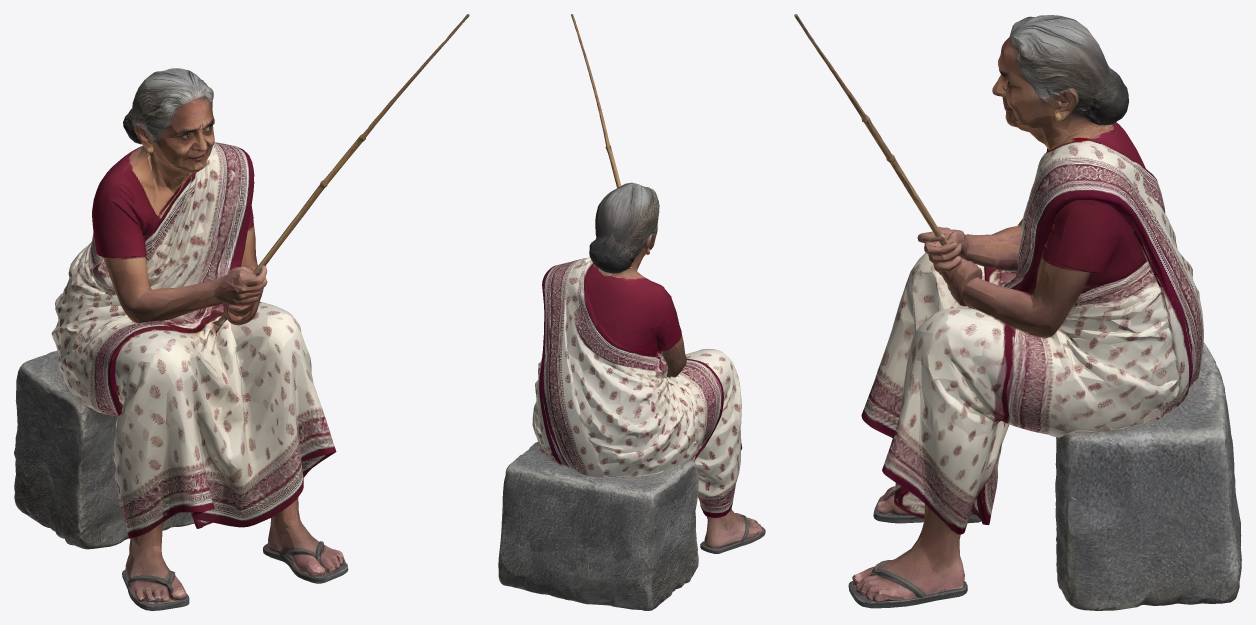
File: lady-s.glb
The picture shows the model from 3 angles, left to right: view 1: azimuth 30°, elevation 25°; view 2: azimuth 150°, elevation 25°; view 3: azimuth 270°, elevation 25°; orthographic projection. The views are drawn at different scales.
Bounding box in the file's own units: 1.02 × 1.9 × 1.19.
1 material, 1 textured.
